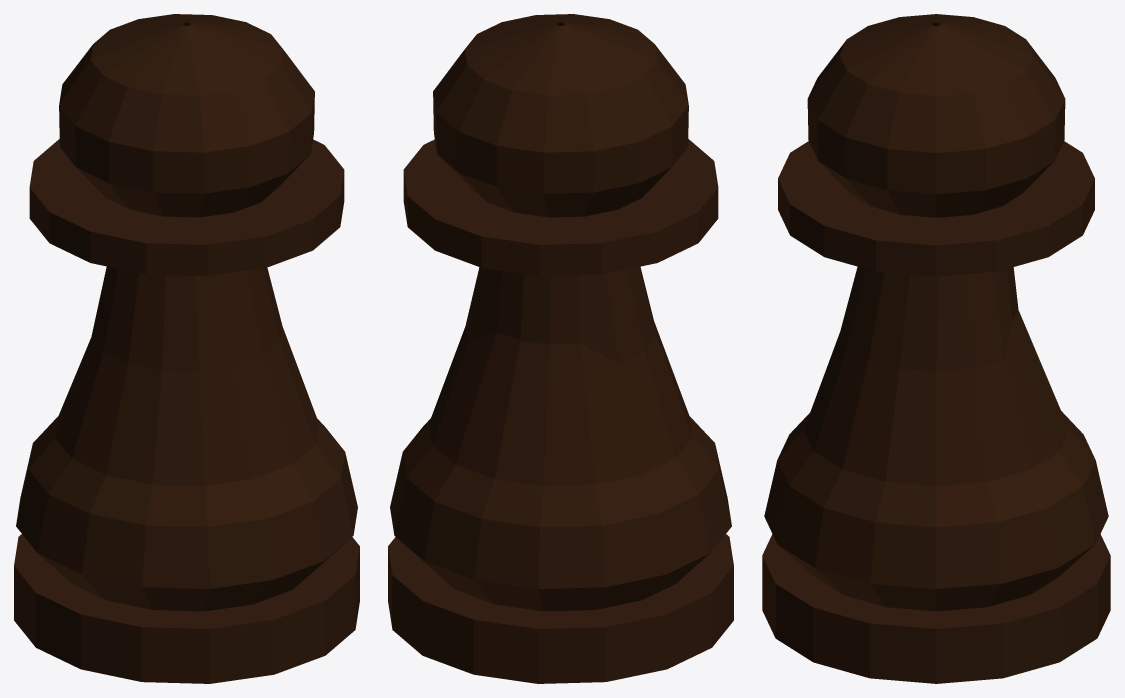
The model's file is Pawn.fbx.
3 renders of one model, left to right at view 1: azimuth 30°, elevation 25°; view 2: azimuth 150°, elevation 25°; view 3: azimuth 270°, elevation 25°, orthographic.
Visible parts, largest first — view 1: Plane.005; view 2: Plane.005; view 3: Plane.005.
Part boxes in pixels (<box>): Plane.005: <box>14,14,359,683</box>; Plane.005: <box>388,14,733,683</box>; Plane.005: <box>762,14,1110,683</box>.
Size of the model in its own units: 32.92 by 61.07 by 32.92.
